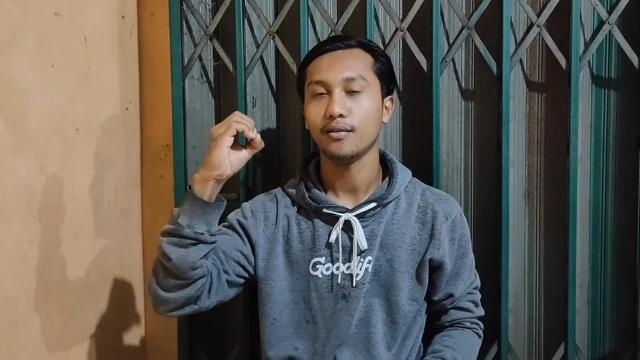O: (204, 106, 266, 182)
